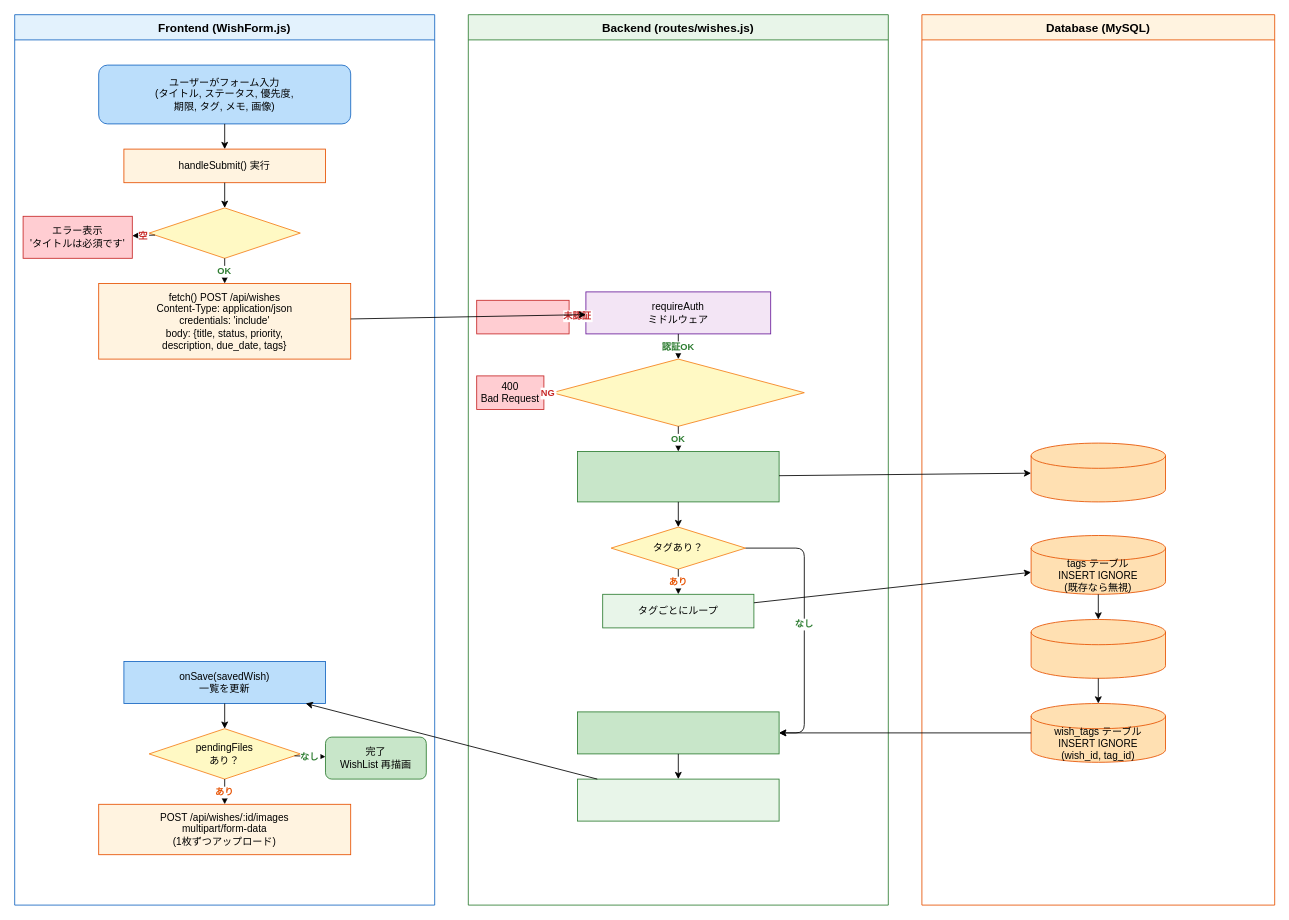
The diagram is 1289 pixels wide and 920 high, and some of its shapes have lost their labels. Each missing label, with the centre of its shape:
201 Created { wish: {..., tags: [...]} }: (678,799)
401 Unauthorized: (522,316)
INSERT INTO wishes (user_id, title, description, status, priority, due_date): (678,476)
SELECT 作成レコード + タグ情報取得: (678,732)
tags テーブル SELECT id WHERE user_id, name: (1098,648)
wishes テーブル INSERT 実行: (1098,472)
サーバー側バリデーション - title 空チェック - status ENUM チェック - priority ENUM チェック: (677,392)
タイトル空？: (224,232)
